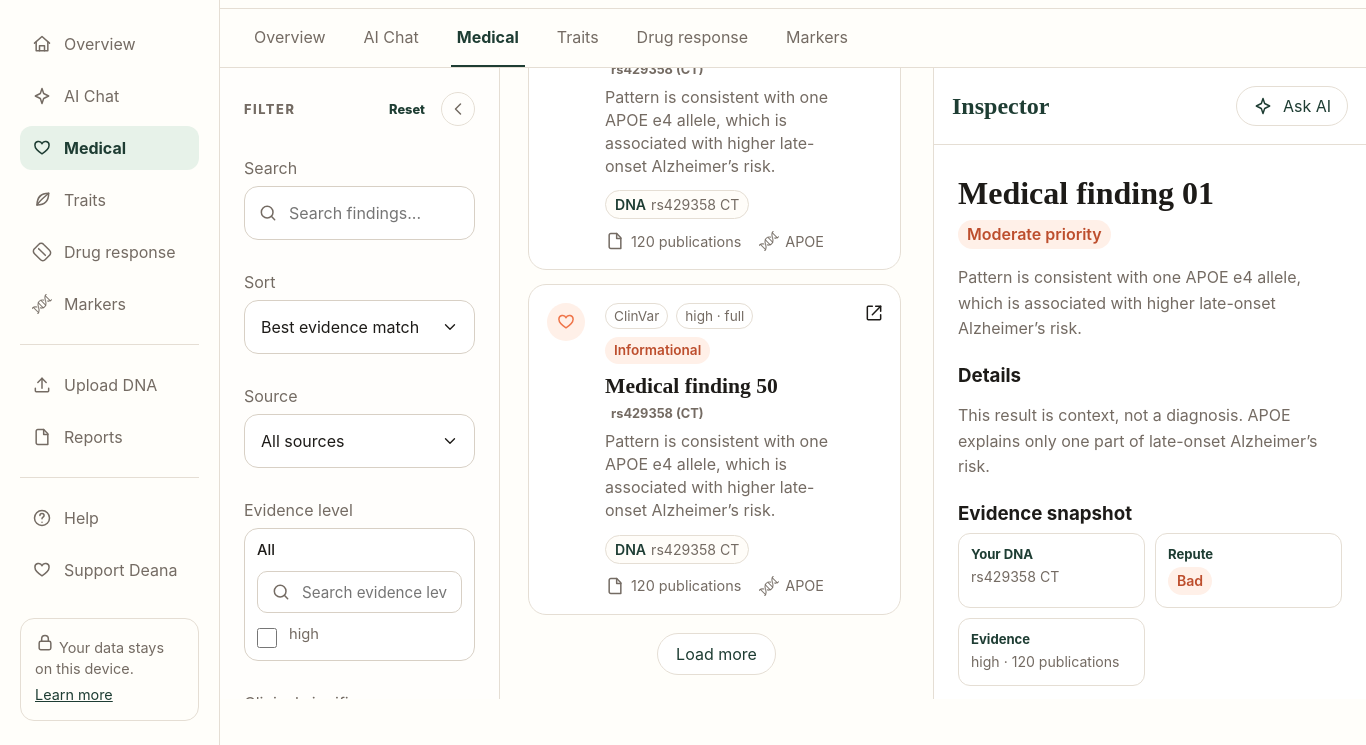
Scenario: Deana app › appends another page when the user loads more category results
(page scrolled)
Click the button "Load more".
click(716, 654)  # box [657, 632, 776, 674]
(page scrolled)
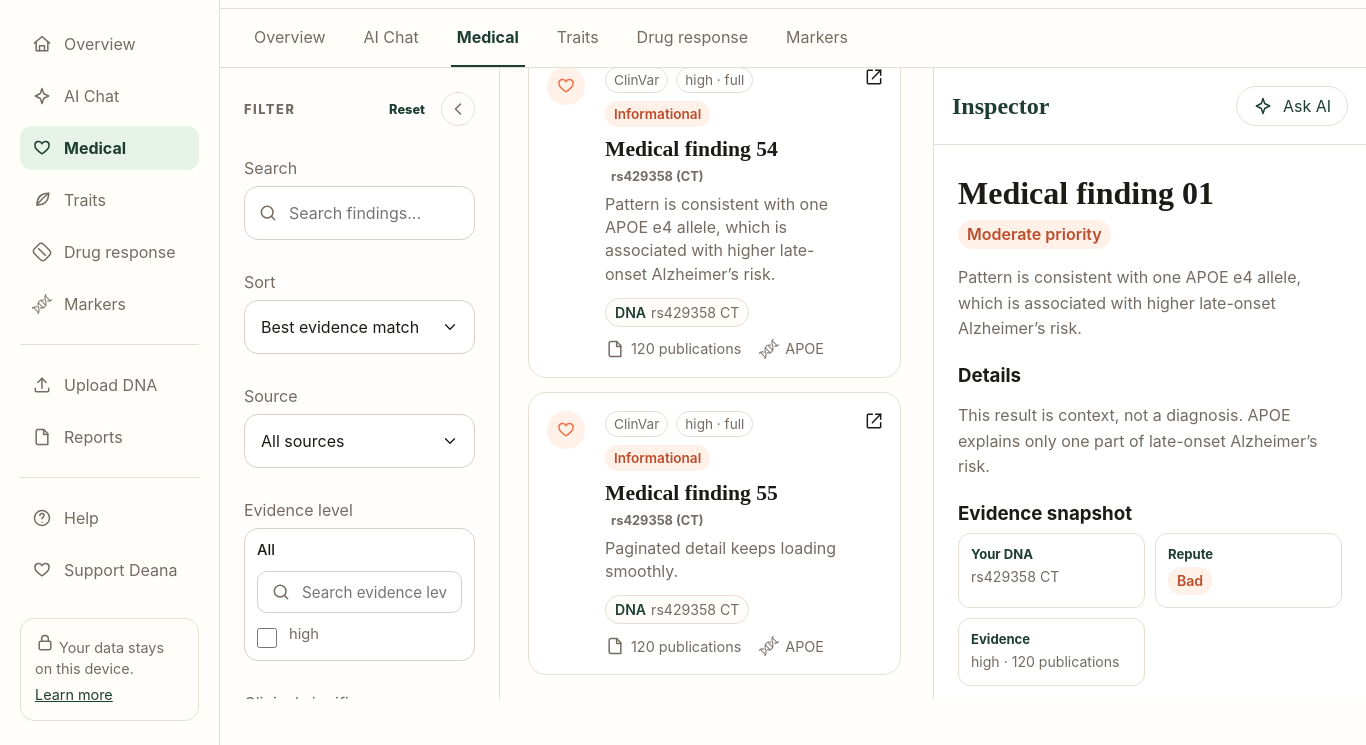
Result: the heading "Medical finding 55 rs429358 (CT)" is shown at [605, 481, 778, 528]
